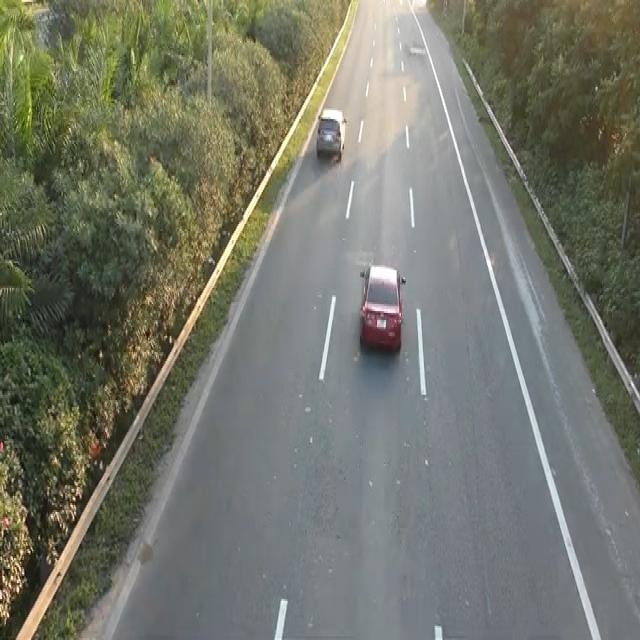bus: (357, 260, 406, 354)
car: (314, 105, 347, 163)
